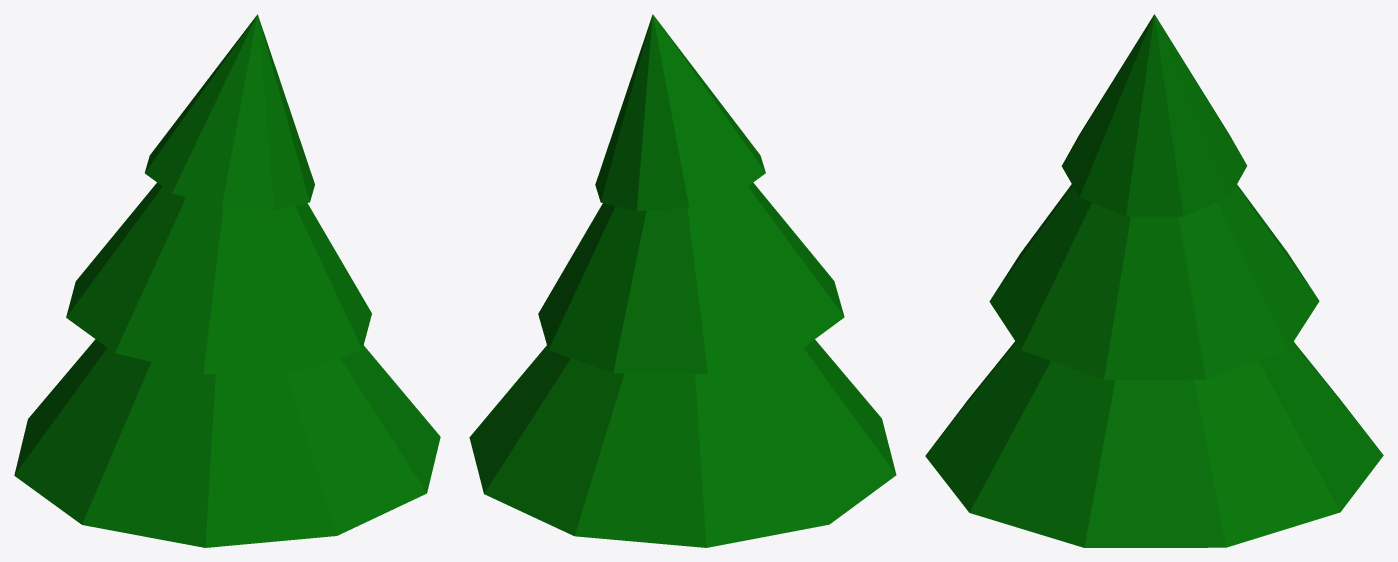
Rendered from PineTree_decagon.obj.
The picture shows the model from 3 angles, left to right: view 1: azimuth 30°, elevation 25°; view 2: azimuth 150°, elevation 25°; view 3: azimuth 270°, elevation 25°; orthographic projection. The views are drawn at different scales.
Bounding box in the file's own units: 4.76 × 6 × 5.
